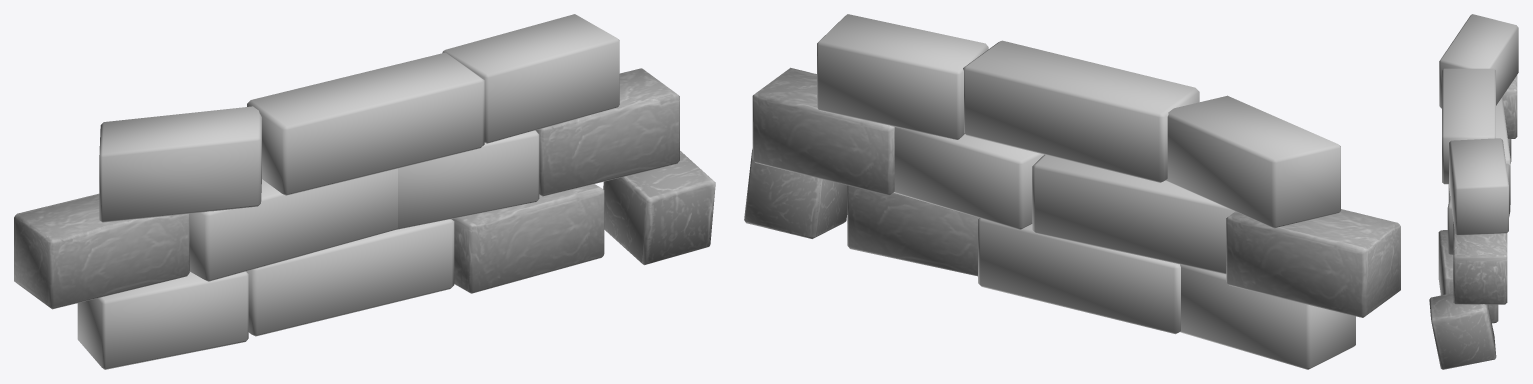
File: Wall_Small.fbx
3 renders of one model, left to right at view 1: azimuth 30°, elevation 25°; view 2: azimuth 150°, elevation 25°; view 3: azimuth 270°, elevation 25°, orthographic. The views are drawn at different scales.
Parts seen in each view (by area): view 1: Brick#1.027, Brick#1.028, wall2, Brick#2.015, Brick#1.026, Brick#1.025, Brick#1.016, Brick#2.014, Brick#2.016, Brick#1.024, Brick#3.022; view 2: Brick#1.027, Brick#1.028, Brick#1.025, Brick#1.026, Brick#2.015, wall2, Brick#2.016, Brick#1.016, Brick#1.024, Brick#2.014, Brick#3.022; view 3: Brick#1.026, Brick#1.027, Brick#1.028, Brick#2.016, Brick#3.022, Brick#2.014, Brick#2.015, Brick#1.025, Brick#1.024, Brick#1.016.
Part boxes in pixels (x1,y1,x2,y2): Brick#1.027: (247, 52, 484, 195); Brick#1.028: (99, 106, 261, 222); wall2: (246, 219, 454, 336); Brick#2.015: (14, 193, 189, 309); Brick#1.026: (442, 14, 619, 143); Brick#1.025: (189, 168, 397, 281); Brick#1.016: (77, 271, 248, 369); Brick#2.014: (451, 184, 604, 293); Brick#2.016: (536, 68, 679, 196); Brick#1.024: (396, 130, 539, 229); Brick#3.022: (603, 151, 715, 265); Brick#1.027: (963, 40, 1199, 182); Brick#1.028: (1165, 95, 1340, 228); Brick#1.025: (1032, 154, 1234, 274); Brick#1.026: (817, 14, 988, 139); Brick#2.015: (1226, 209, 1400, 317); wall2: (978, 218, 1180, 334); Brick#2.016: (752, 67, 894, 195); Brick#1.016: (1180, 264, 1355, 369); Brick#1.024: (894, 127, 1043, 229); Brick#2.014: (847, 185, 979, 276); Brick#3.022: (744, 149, 847, 238); Brick#1.026: (1449, 138, 1508, 235); Brick#1.027: (1442, 68, 1495, 184); Brick#1.028: (1439, 14, 1518, 108); Brick#2.016: (1453, 222, 1507, 304); Brick#3.022: (1429, 293, 1496, 369); Brick#2.014: (1438, 230, 1498, 323); Brick#2.015: (1502, 75, 1517, 138); Brick#1.025: (1496, 97, 1510, 204); Brick#1.024: (1447, 163, 1510, 255); Brick#1.016: (1448, 139, 1511, 201).
Size of the model in its own units: 1932 by 643 by 330.
